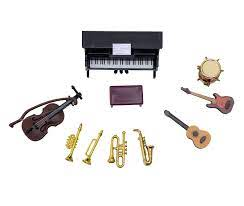Piano: (64, 20, 187, 84)
Saxophone: (128, 123, 177, 176)
Violin: (3, 85, 86, 147)
